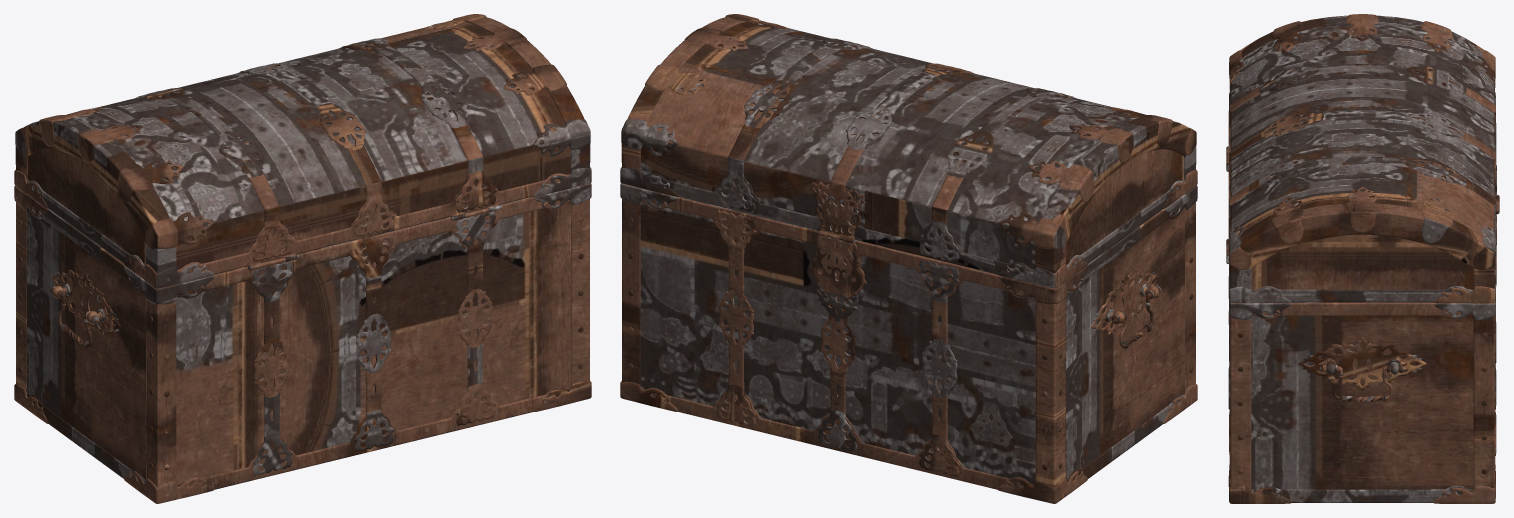
File: treasure_chest.obj
The picture shows the model from 3 angles, left to right: view 1: azimuth 30°, elevation 25°; view 2: azimuth 150°, elevation 25°; view 3: azimuth 270°, elevation 25°; orthographic projection. The views are drawn at different scales.
Visible parts, largest first — view 1: treasure_chest_treasure_chest_bottom_0, treasure_chest_treasure_chest_lid_0; view 2: treasure_chest_treasure_chest_bottom_0, treasure_chest_treasure_chest_lid_0, treasure_chest_treasure_chest_lock_0; view 3: treasure_chest_treasure_chest_lid_0, treasure_chest_treasure_chest_bottom_0, treasure_chest_treasure_chest_handle_right_0.
Boxes of the visible parts, <box> form: treasure_chest_treasure_chest_bottom_0: <box>14,183,591,503</box>; treasure_chest_treasure_chest_lid_0: <box>14,14,591,288</box>; treasure_chest_treasure_chest_bottom_0: <box>620,183,1197,503</box>; treasure_chest_treasure_chest_lid_0: <box>620,14,1197,288</box>; treasure_chest_treasure_chest_lock_0: <box>812,233,862,322</box>; treasure_chest_treasure_chest_lid_0: <box>1226,14,1499,303</box>; treasure_chest_treasure_chest_bottom_0: <box>1226,152,1496,503</box>; treasure_chest_treasure_chest_handle_right_0: <box>1319,365,1405,402</box>.
Size of the model in its own units: 0.959 by 0.619 by 0.5229.
Materials: 1 (1 with a texture image).
